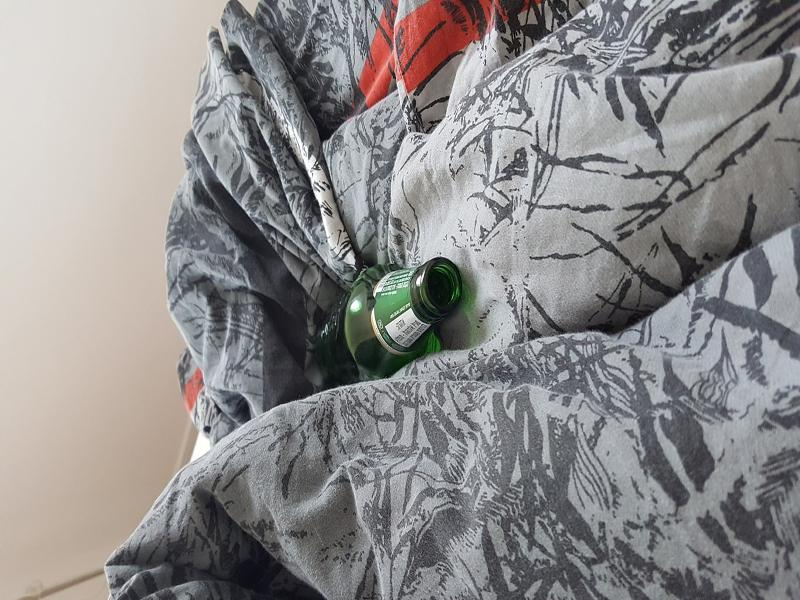Beer: (316, 261, 462, 377)
